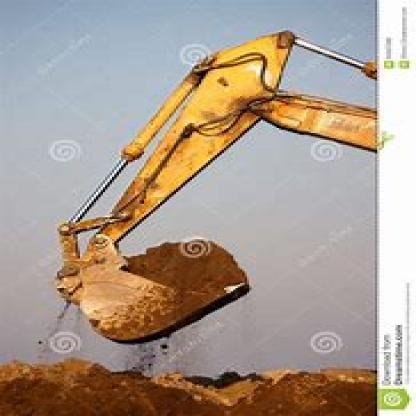excavator: (36, 22, 375, 347)
